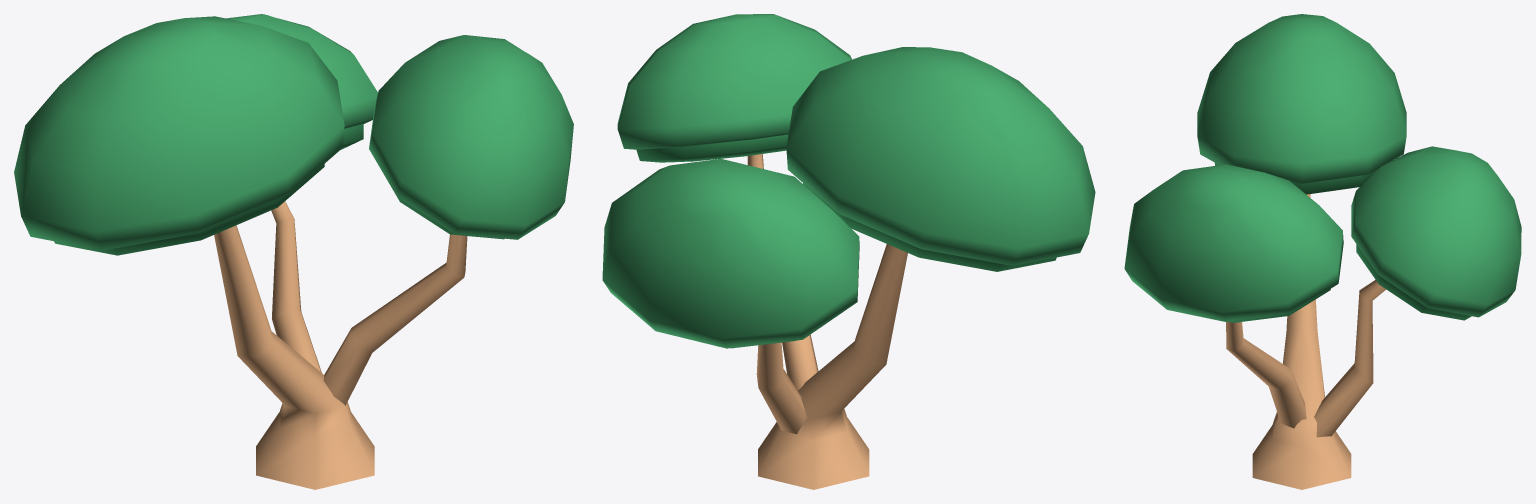
File: tree03.fbx
3 views of the same model, side by side, from view 1: azimuth 30°, elevation 25°; view 2: azimuth 150°, elevation 25°; view 3: azimuth 270°, elevation 25° (orthographic). The views are drawn at different scales.
Parts seen in each view (by area): view 1: tree03; view 2: tree03; view 3: tree03.
Part boxes in pixels (box(x1,y1,x2,y2)): tree03: box(14, 14, 573, 489); tree03: box(602, 14, 1095, 489); tree03: box(1124, 14, 1521, 489).
Size of the model in its own units: 8.16 by 7.06 by 6.61.
1 material, 1 textured.
